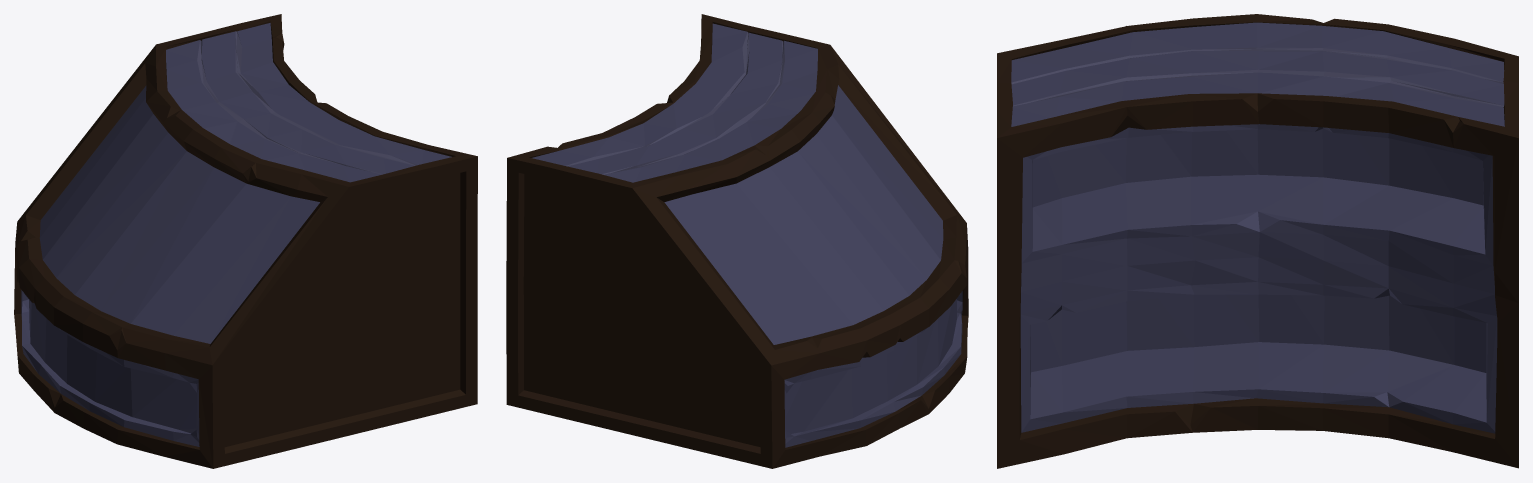
The model's file is SFFA_Table_Modular_003.fbx.
3 views of the same model, side by side, from view 1: azimuth 30°, elevation 25°; view 2: azimuth 150°, elevation 25°; view 3: azimuth 270°, elevation 25° (orthographic). The views are drawn at different scales.
Parts seen in each view (by area): view 1: SFFA_Table_Modular_003; view 2: SFFA_Table_Modular_003; view 3: SFFA_Table_Modular_003.
Boxes of the visible parts, <box> form: SFFA_Table_Modular_003: <box>14,14,477,468</box>; SFFA_Table_Modular_003: <box>506,14,968,468</box>; SFFA_Table_Modular_003: <box>997,14,1518,468</box>.
Bounding box in the file's own units: 144 × 106 × 150.
